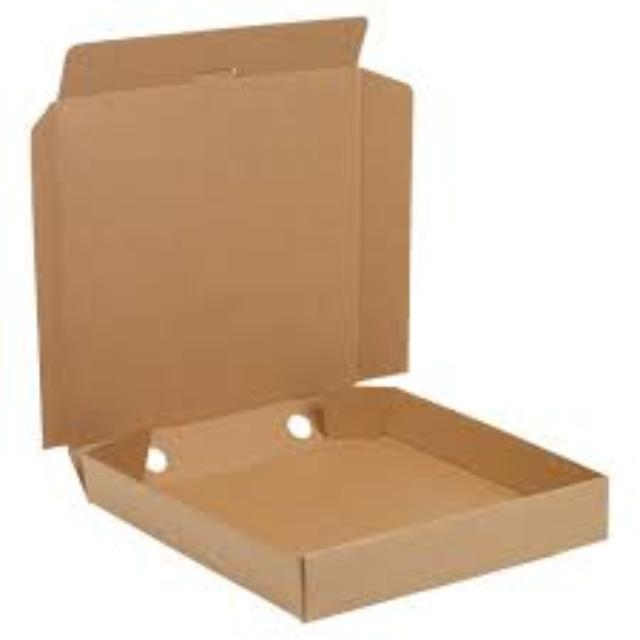cardboard paper: (28, 14, 603, 614)
